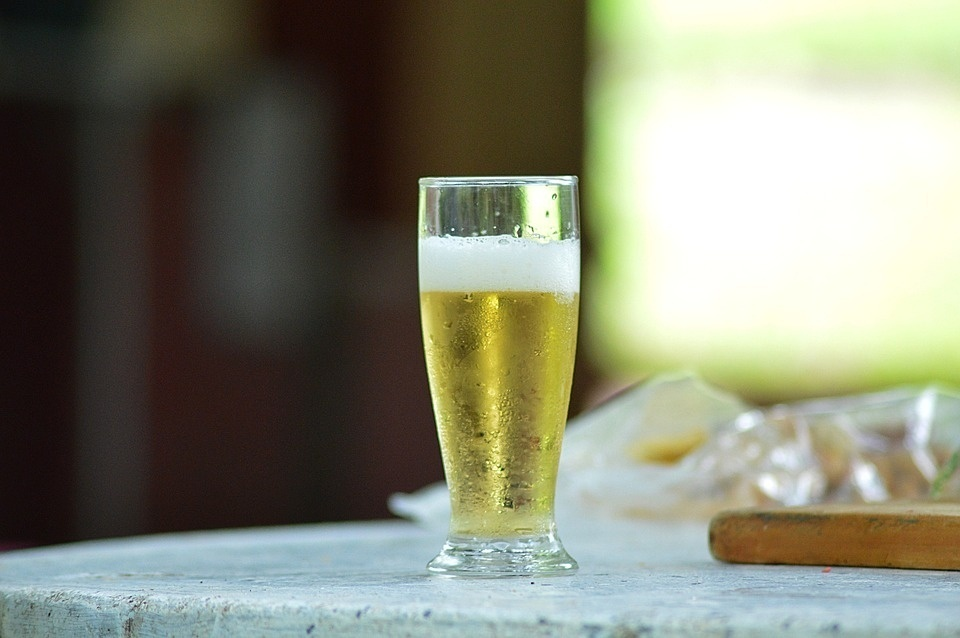whiskey: (415, 164, 596, 577)
